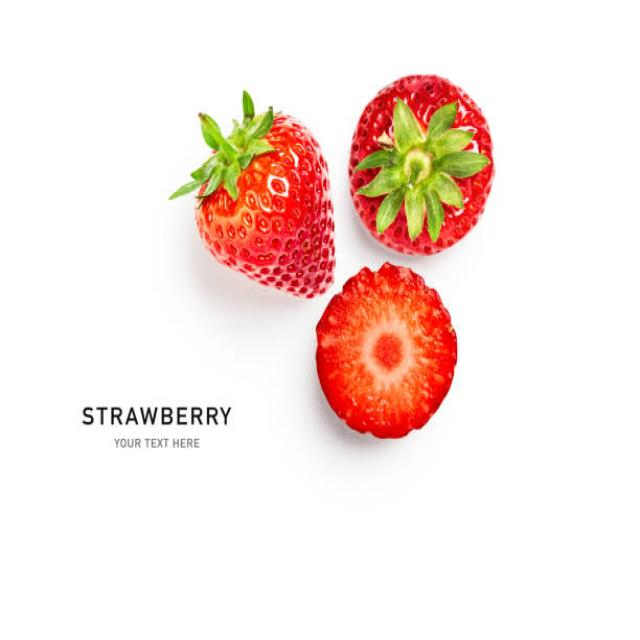Healthy Fruit: (348, 71, 494, 258), (197, 111, 336, 301)
